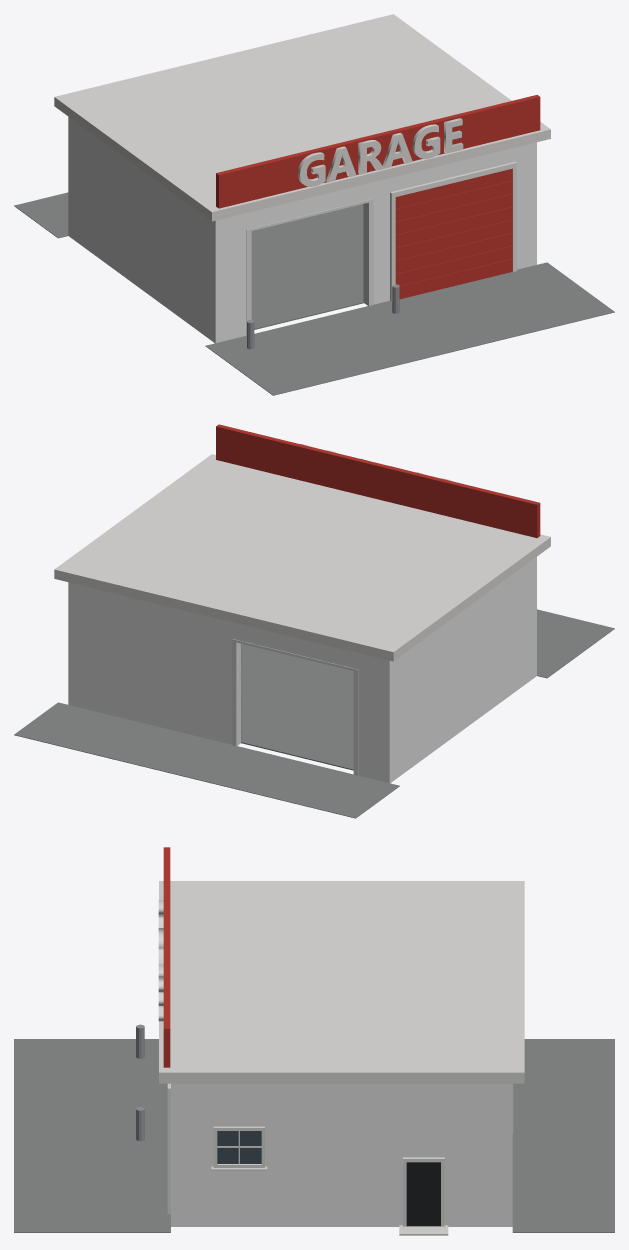
Rendered from city_garage.fbx.
3 renders of one model, top to bottom at view 1: azimuth 30°, elevation 25°; view 2: azimuth 150°, elevation 25°; view 3: azimuth 270°, elevation 25°, orthographic. The views are drawn at different scales.
Parts seen in each view (by area): view 1: trim_1, concrete_1, stucco_1, red_1; view 2: trim_1, stucco_1, concrete_1, red_1; view 3: trim_1, concrete_1, stucco_1, rubber_1, red_1, glass_1, steel_1.
Part boxes in pixels (x1=…): trim_1: x1=54, y1=14, x2=550, y2=335; concrete_1: x1=14, y1=192, x2=614, y2=395; stucco_1: x1=68, y1=117, x2=536, y2=343; red_1: x1=216, y1=95, x2=540, y2=299; trim_1: x1=54, y1=444, x2=550, y2=775; stucco_1: x1=68, y1=557, x2=536, y2=783; concrete_1: x1=14, y1=609, x2=614, y2=818; red_1: x1=216, y1=424, x2=540, y2=538; trim_1: x1=158, y1=881, x2=524, y2=1235; concrete_1: x1=14, y1=1039, x2=614, y2=1232; stucco_1: x1=171, y1=1083, x2=512, y2=1226; rubber_1: x1=406, y1=1162, x2=440, y2=1226; red_1: x1=163, y1=847, x2=170, y2=1067; glass_1: x1=217, y1=1131, x2=261, y2=1163; steel_1: x1=136, y1=1024, x2=144, y2=1140.
Size of the model in its own units: 1.36 by 0.64 by 1.76.
